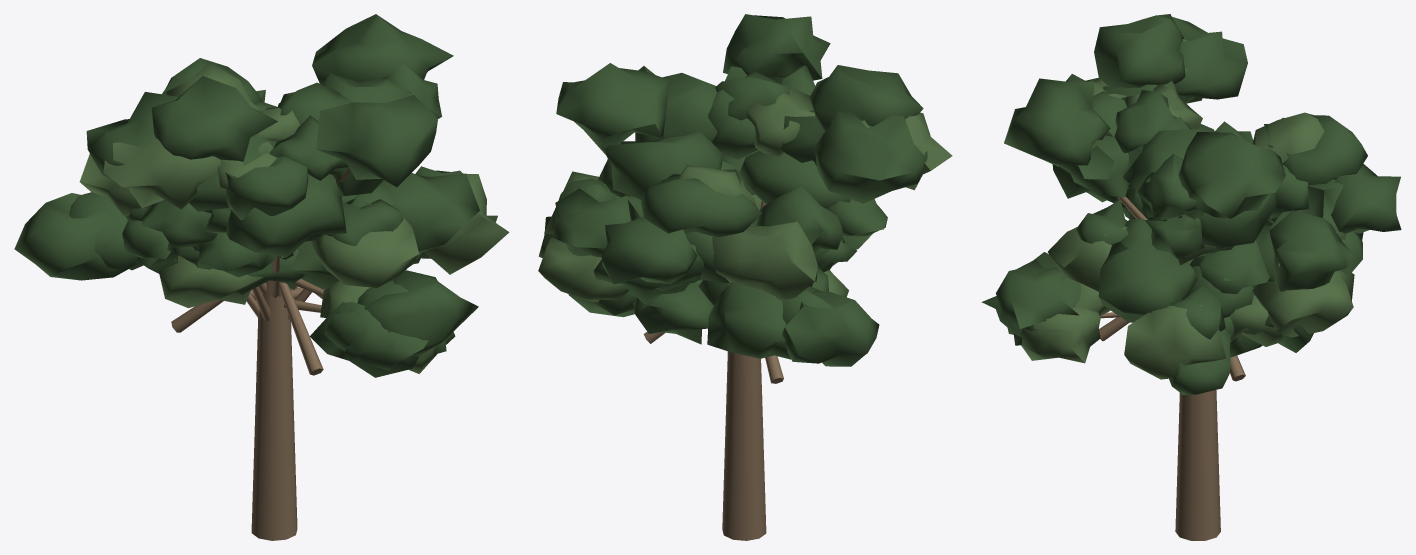
The model's file is tree.glb.
The picture shows the model from 3 angles, left to right: view 1: azimuth 30°, elevation 25°; view 2: azimuth 150°, elevation 25°; view 3: azimuth 270°, elevation 25°; orthographic projection. The views are drawn at different scales.
Visible parts, largest first — view 1: body; view 2: body; view 3: body.
Boxes of the visible parts, <box> form: body: <box>14,14,509,540</box>; body: <box>538,14,952,540</box>; body: <box>981,14,1401,540</box>.
Size of the model in its own units: 6.44 by 7.31 by 5.91.
